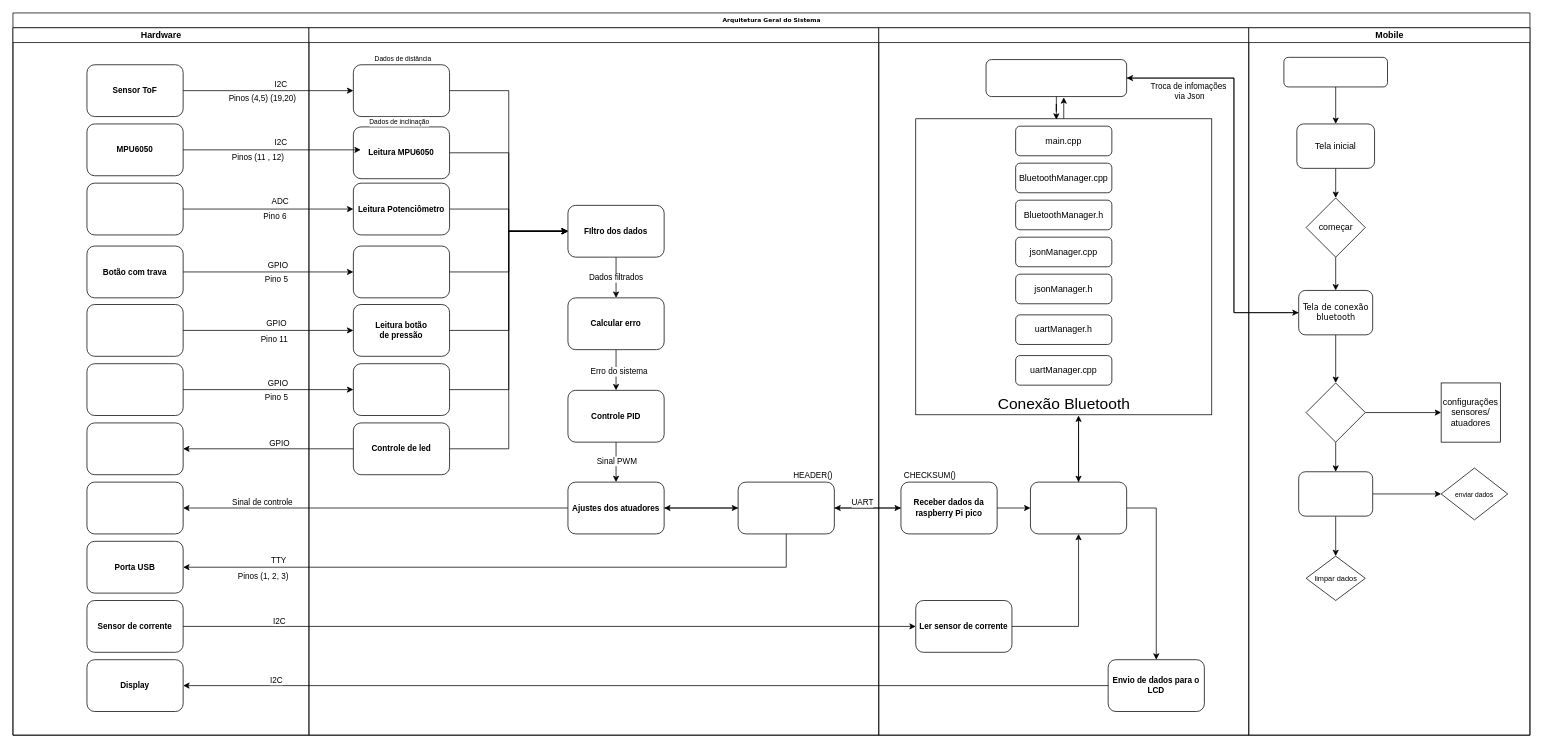
Image size: 1543x748. Some labels were removed from this diagram. The shapes that lost their labels are listed below. From the top down, each one's box as (x1, y1, x2, y2) in pixels, then its label:
(353, 64, 450, 117): Leitura ToF
(985, 59, 1127, 97): start ( bluetooth em um modelo p2p )
(1283, 57, 1388, 87): start
(86, 182, 183, 235): Potenciômetro
(353, 245, 450, 298): Leitura botão com trava
(86, 304, 183, 356): Botão de pressão
(86, 363, 183, 416): Chave HH
(353, 363, 450, 416): Leitura Chave HH
(308, 27, 879, 735): Raspberry pi pico
(878, 27, 1249, 735): ESP32
(1305, 382, 1365, 442): conecte-se a um dispositivo
(86, 422, 183, 475): LED
(86, 481, 183, 534): Motor A2212/10T
(737, 481, 834, 534): Comunicação com ESP32 e USB
(1030, 481, 1127, 534): Processamento de dados de entrada e saída
(1298, 471, 1373, 516): Tela de controle de monitoramento
